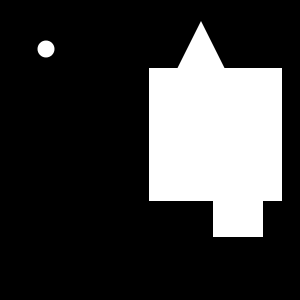circle: (149, 68, 282, 201), (213, 187, 263, 237)
rectangle: (37, 40, 54, 57)
triangle: (151, 21, 251, 121)
